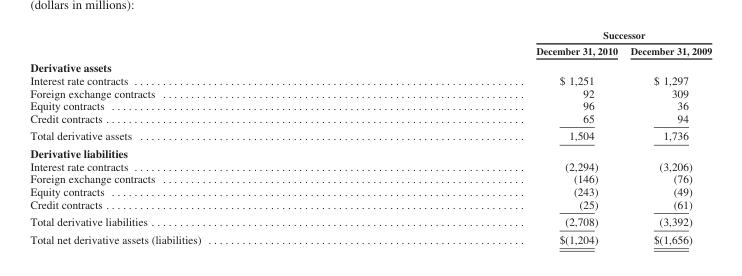table: (29, 29, 711, 245)
table column: (29, 29, 367, 245), (367, 29, 623, 245), (623, 29, 711, 245)
table column header: (29, 29, 711, 58)
table projected row header: (29, 58, 711, 73), (29, 144, 711, 159)
table row: (29, 126, 711, 144), (29, 212, 711, 230), (29, 42, 711, 58), (29, 58, 711, 73), (29, 111, 711, 126), (29, 144, 711, 159), (29, 197, 711, 212), (29, 230, 711, 245), (29, 29, 711, 42), (29, 73, 711, 86), (29, 98, 711, 111), (29, 159, 711, 172), (29, 184, 711, 197), (29, 86, 711, 98), (29, 172, 711, 184)
table spanning cell: (367, 29, 711, 42)
